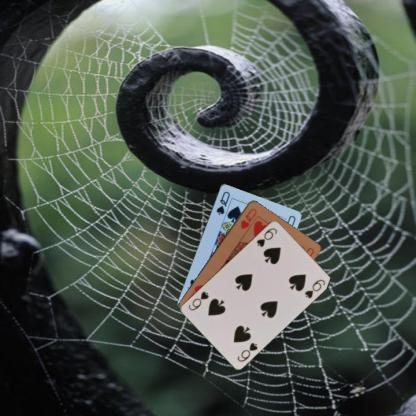6s: (234, 340, 259, 363), (254, 226, 279, 248)
Qh: (238, 206, 258, 230)
Qs: (214, 188, 231, 216)
